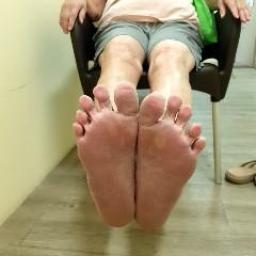Plantar View -Both Feet-: (56, 78, 216, 237)
